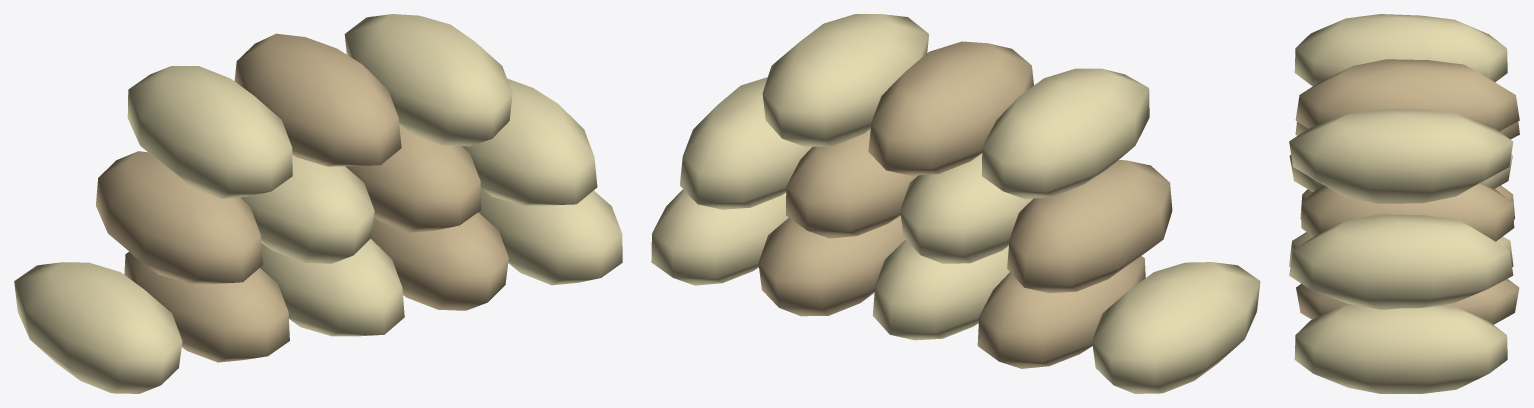
The model's file is prop_sandbags.glb.
The picture shows the model from 3 angles, left to right: view 1: azimuth 30°, elevation 25°; view 2: azimuth 150°, elevation 25°; view 3: azimuth 270°, elevation 25°; orthographic projection. The views are drawn at different scales.
Parts seen in each view (by area): view 1: bag0_0, bag2_0, bag2_2, bag2_1, bag1_0, bag1_3, bag0_1, bag1_1, bag0_2, bag0_4, bag0_3, bag1_2; view 2: bag0_0, bag2_0, bag1_0, bag2_1, bag2_2, bag1_3, bag0_1, bag0_3, bag1_1, bag0_2, bag1_2, bag0_4; view 3: bag2_2, bag1_3, bag0_4, bag2_1, bag2_0, bag1_2, bag0_3, bag1_1, bag0_2, bag1_0, bag0_1.
Boxes of the visible parts, x1,y1,x2,y2 form: bag0_0: (14,262,182,393); bag2_0: (127,66,292,198); bag2_2: (344,14,512,146); bag2_1: (234,33,401,166); bag1_0: (96,151,262,283); bag1_3: (462,78,597,205); bag0_1: (124,251,289,362); bag1_1: (241,154,374,263); bag0_2: (260,238,404,336); bag0_4: (478,188,622,285); bag0_3: (371,212,508,310); bag1_2: (345,126,481,232); bag0_0: (1092,262,1260,393); bag2_0: (981,68,1149,199); bag1_0: (1007,160,1172,293); bag2_1: (868,41,1033,175); bag2_2: (762,14,928,146); bag1_3: (679,77,812,209); bag0_1: (977,256,1145,368); bag0_3: (758,215,905,316); bag1_1: (900,154,1032,263); bag0_2: (872,239,1009,340); bag1_2: (786,129,917,238); bag0_4: (651,189,788,285); bag2_2: (1289,109,1513,203); bag1_3: (1289,214,1513,309); bag0_4: (1294,304,1507,393); bag2_1: (1295,59,1519,131); bag2_0: (1294,14,1507,86); bag1_2: (1301,183,1514,241); bag0_3: (1296,279,1519,324); bag1_1: (1289,154,1512,191); bag0_2: (1289,232,1513,266); bag1_0: (1295,122,1519,139); bag0_1: (1300,185,1514,219).
Size of the model in its own units: 1.71 by 0.7906 by 0.717.
